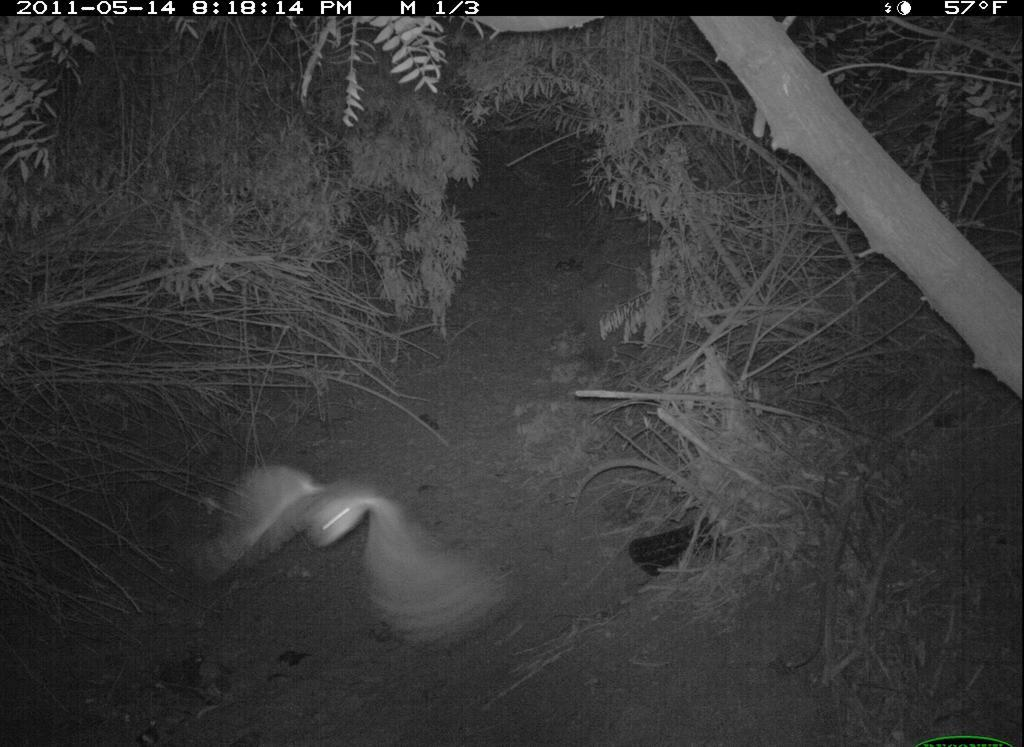bird: (176, 445, 523, 656)
